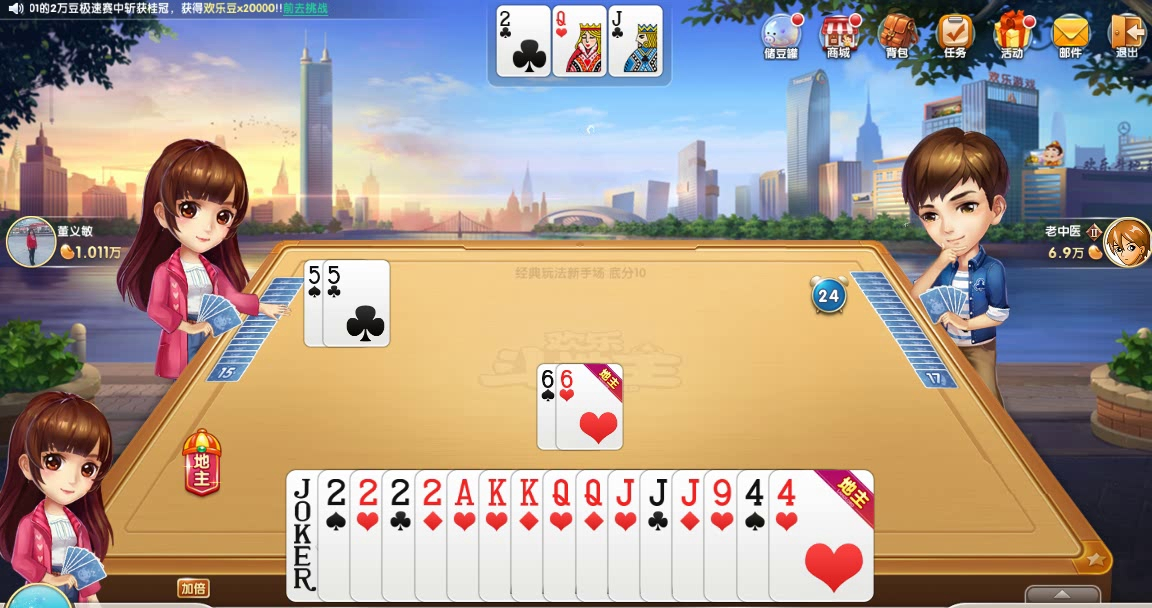11~1: (670, 469, 776, 604)
11~2: (639, 469, 745, 604), (608, 4, 664, 77)
11~3: (606, 469, 712, 604)
12~1: (575, 469, 681, 604)
12~3: (542, 468, 648, 603), (551, 4, 607, 77)
13~1: (509, 468, 615, 603)
13~3: (478, 469, 584, 604)
14~3: (445, 469, 551, 604)
15~1: (414, 468, 520, 603)
15~2: (381, 468, 487, 603), (495, 5, 551, 78)
15~3: (348, 468, 454, 603)
15~4: (317, 468, 423, 603)
17~3: (286, 466, 392, 601)
4~3: (769, 469, 875, 604)
4~4: (735, 469, 841, 604)
5~2: (322, 259, 391, 348)
5~4: (304, 258, 373, 347)
6~3: (555, 363, 623, 450)
6~4: (536, 363, 604, 450)
9~3: (703, 469, 809, 604)
